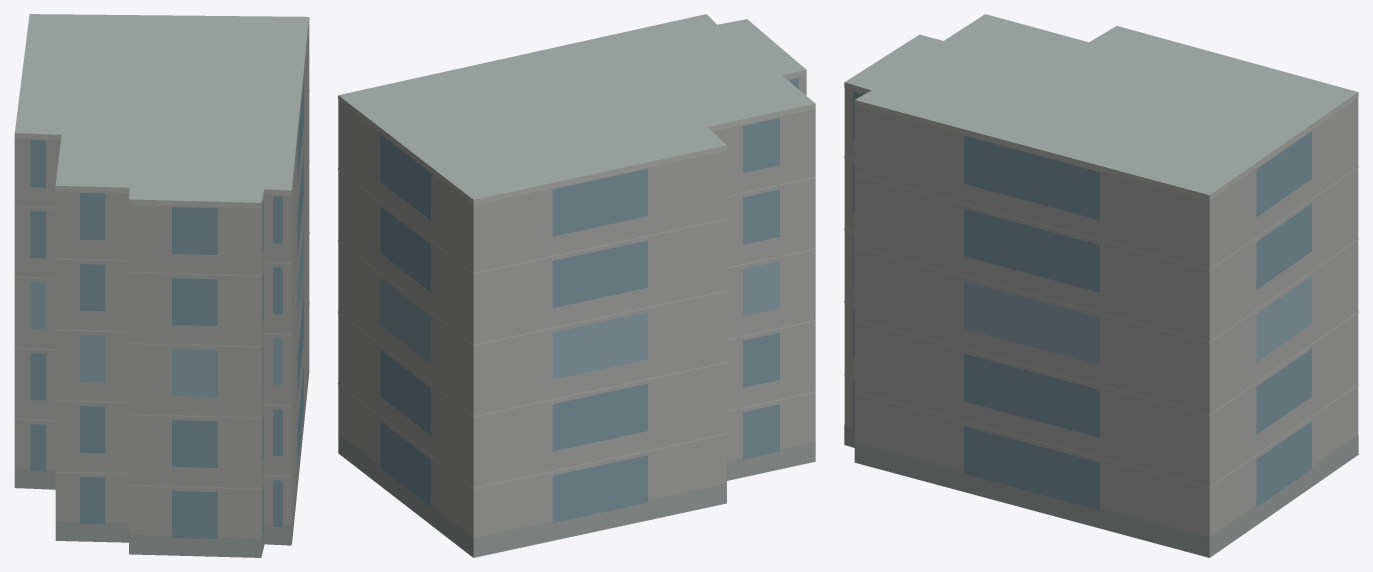
File: survey-upis-32731752.glb
3 renders of one model, left to right at view 1: azimuth 30°, elevation 25°; view 2: azimuth 150°, elevation 25°; view 3: azimuth 270°, elevation 25°, orthographic. The views are drawn at different scales.
Parts seen in each view (by area): view 1: survey-upis-32731752.tmp; view 2: survey-upis-32731752.tmp; view 3: survey-upis-32731752.tmp.
Part boxes in pixels (box(x1,y1,x2,y2)): survey-upis-32731752.tmp: box(14, 14, 309, 557); survey-upis-32731752.tmp: box(338, 14, 815, 557); survey-upis-32731752.tmp: box(844, 14, 1358, 557).
Bounding box in the file's own units: 17.01 × 15.85 × 20.38.
